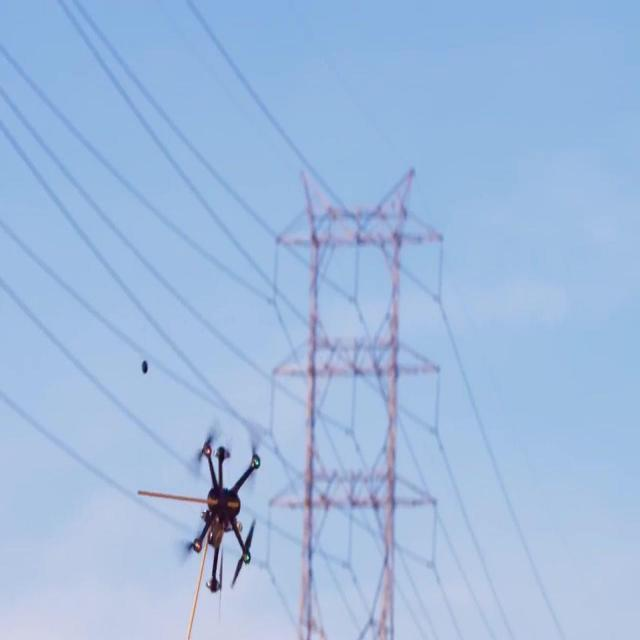UAV: (185, 430, 263, 595)
